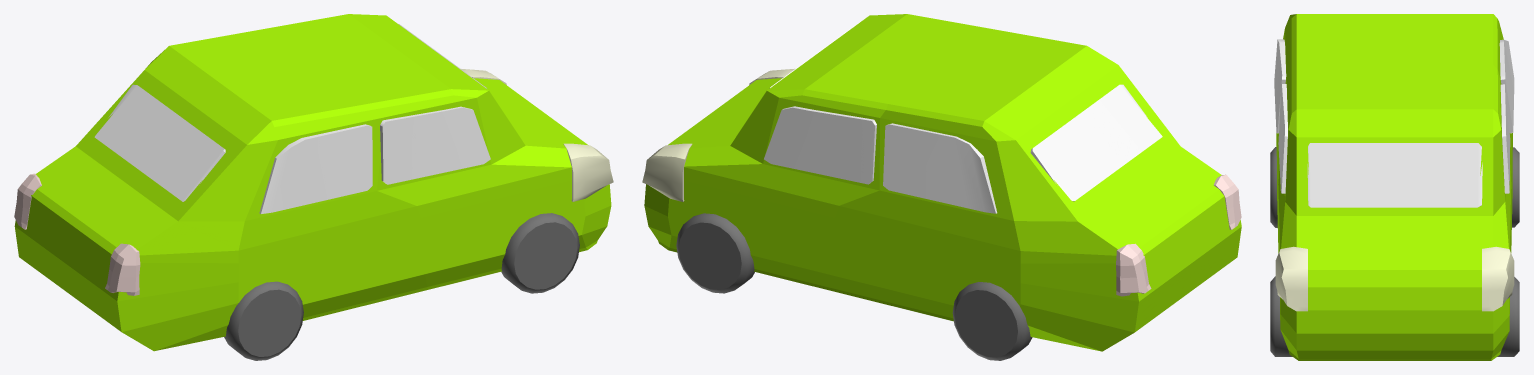
File: CarroVerde.fbx
The picture shows the model from 3 angles, left to right: view 1: azimuth 30°, elevation 25°; view 2: azimuth 150°, elevation 25°; view 3: azimuth 270°, elevation 25°; orthographic projection. The views are drawn at different scales.
Visible parts, largest first — view 1: pCube1, pCube10, pCube7, pCube8, pCylinder1, pCylinder2, pCube11, pCube9; view 2: pCube1, pCube10, pCube4, pCube3, pCylinder3, pCylinder4, pCube11, pCube9; view 3: pCube1, pCube6, pCube9, pCube4, pCylinder1, pCylinder3, pCube8, pCube3, pCube7, pCylinder4, pCylinder2.
Boxes of the visible parts, x1,y1,x2,y2 form: pCube1: (14,14,611,351); pCube10: (94,84,225,201); pCube7: (259,124,372,213); pCube8: (380,106,490,184); pCylinder1: (501,213,579,293); pCylinder2: (224,281,303,360); pCube11: (14,173,140,295); pCube9: (461,69,613,201); pCube1: (644,14,1241,351); pCube10: (1030,84,1162,201); pCube4: (883,123,997,213); pCube3: (764,106,876,184); pCylinder3: (676,213,754,293); pCylinder4: (952,282,1032,360); pCube11: (1116,174,1241,296); pCube9: (642,68,794,201); pCube1: (1276,14,1512,360); pCube6: (1307,143,1482,207); pCube9: (1275,246,1514,311); pCube4: (1499,39,1514,133); pCylinder1: (1270,276,1292,356); pCylinder3: (1497,277,1519,356); pCube8: (1278,84,1287,193); pCube3: (1500,84,1510,193); pCube7: (1274,39,1286,133); pCylinder4: (1512,147,1519,227); pCylinder2: (1270,147,1277,227).
Bounding box in the file's own units: 24.41 × 10.7 × 11.09.
